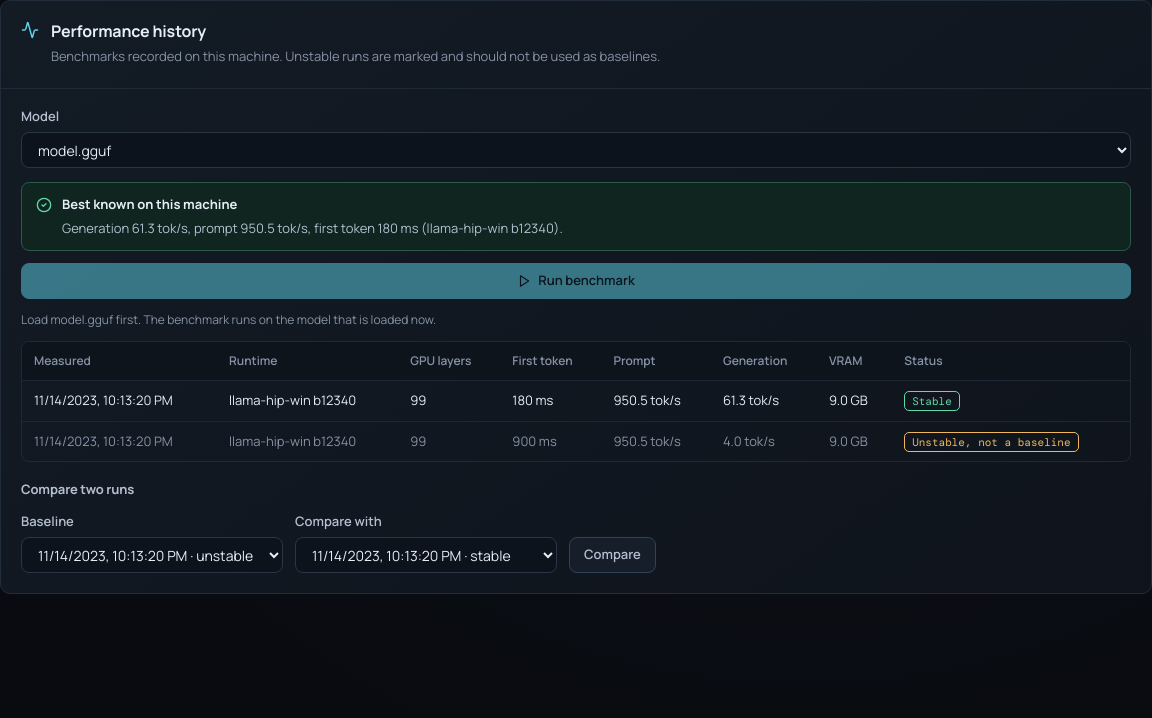
Test: PerformancePanel › compares two runs and warns when one of them is unstable
Click the button "Compare": click(612, 555) [569,537,656,573]
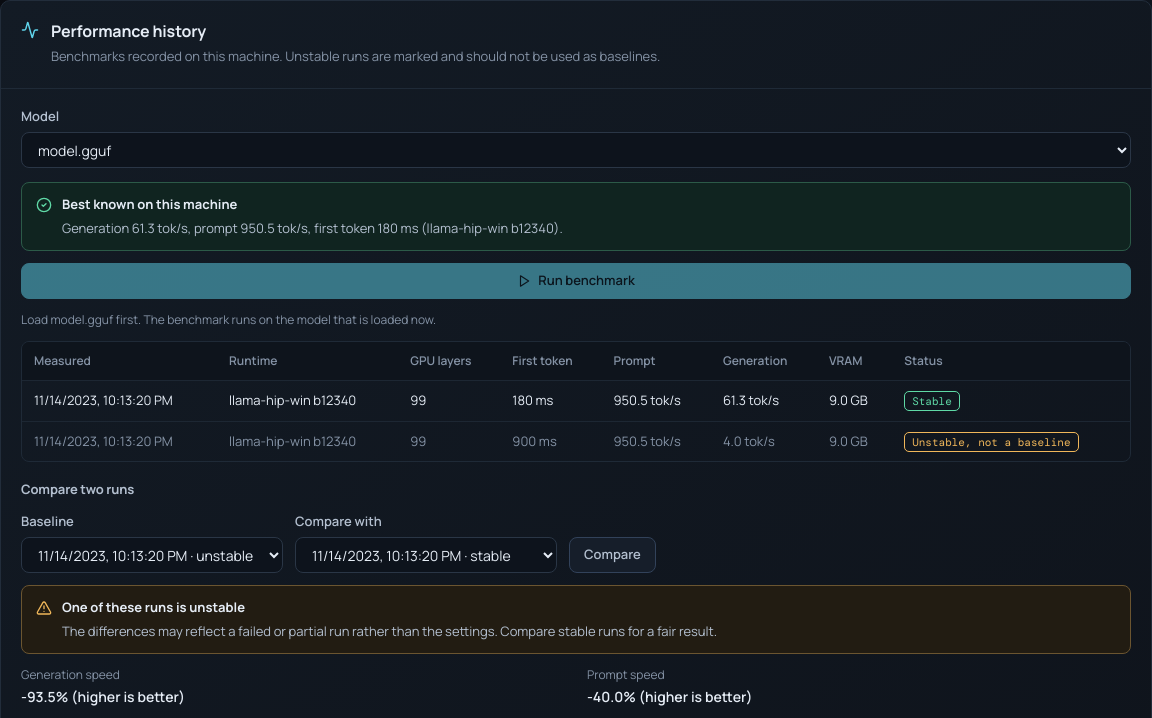
Expected: the text "One of these runs is unstable" is shown, [62,598,245,616]
Expected: the text "-93.5% (higher is better)" is shown, [21,687,185,706]
